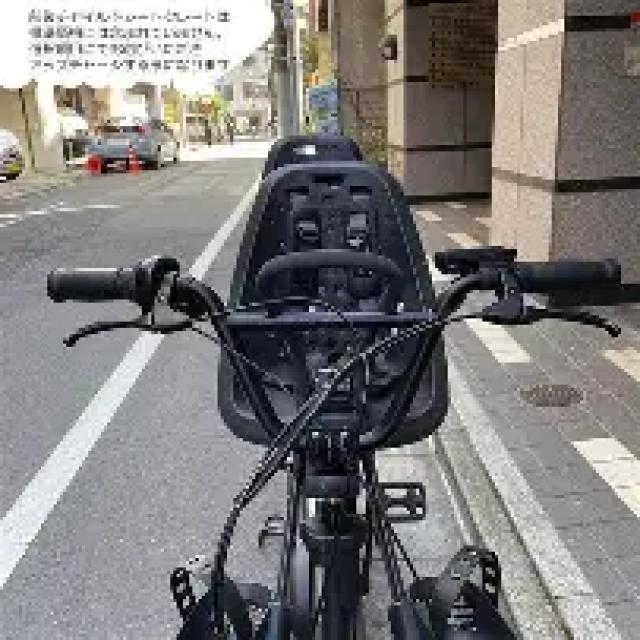childseat: (214, 133, 424, 439)
